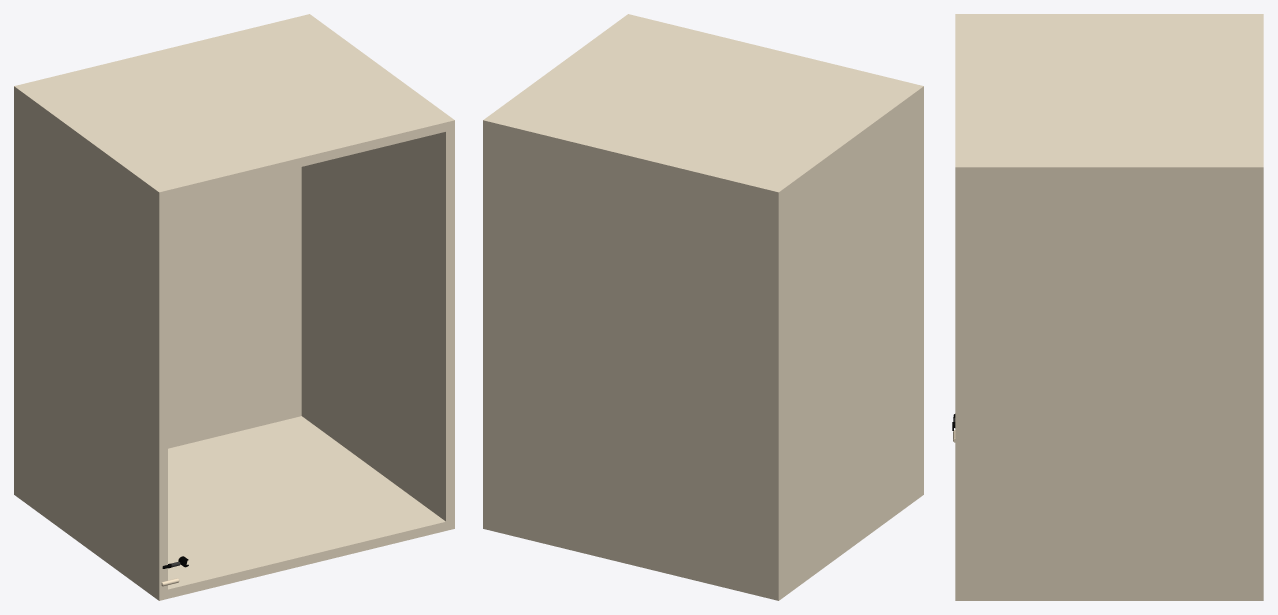
File: try2.glb
The picture shows the model from 3 angles, left to right: view 1: azimuth 30°, elevation 25°; view 2: azimuth 150°, elevation 25°; view 3: azimuth 270°, elevation 25°; orthographic projection. The views are drawn at different scales.
Visible parts, largest first — view 1: Body1.003, Body1.001, Body1.002, Body1.004, Body1; view 2: Body1.004, Body1.003, Body1.002, Body1.001, Body1; view 3: Body1.001, Body1.002, Body1.003, Body1.004.
Boxes of the visible parts, x1,y1,x2,y2 form: Body1.003: (14, 84, 167, 600); Body1.001: (301, 14, 454, 530); Body1.002: (24, 16, 445, 199); Body1.004: (14, 14, 309, 494); Body1: (168, 416, 445, 598); Body1.004: (483, 120, 779, 600); Body1.003: (770, 84, 923, 600); Body1.002: (492, 16, 914, 199); Body1.001: (483, 14, 636, 529); Body1: (492, 522, 769, 598); Body1.001: (955, 162, 1263, 600); Body1.002: (955, 18, 1263, 162); Body1.003: (955, 14, 1263, 18); Body1.004: (1262, 14, 1263, 583).
Bounding box in the file's own units: 0.6 × 0.792 × 0.5153.
